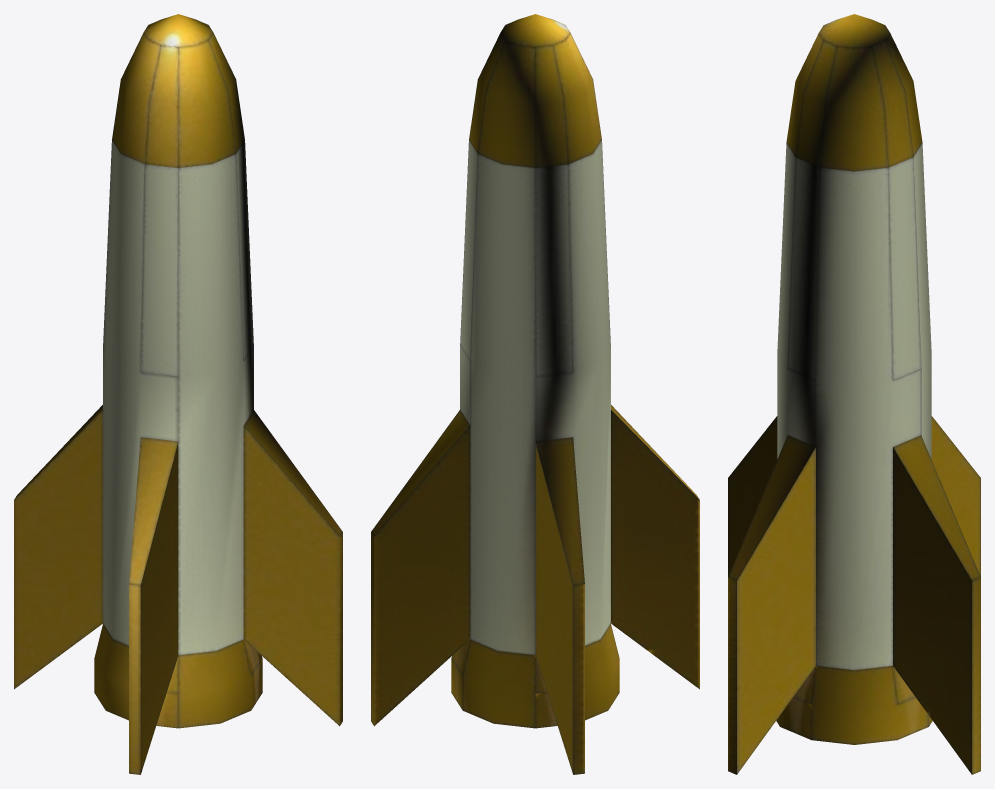
Rendered from bomb.obj.
3 renders of one model, left to right at view 1: azimuth 30°, elevation 25°; view 2: azimuth 150°, elevation 25°; view 3: azimuth 270°, elevation 25°, orthographic. The views are drawn at different scales.
Parts seen in each view (by area): view 1: Cylinder004; view 2: Cylinder004; view 3: Cylinder004.
Part boxes in pixels (x1,y1,x2,y2): Cylinder004: (14, 14, 342, 774); Cylinder004: (371, 14, 699, 774); Cylinder004: (728, 14, 980, 774).
Size of the model in its own units: 4.35 by 13.43 by 4.35.
Materials: 1 (1 with a texture image).
